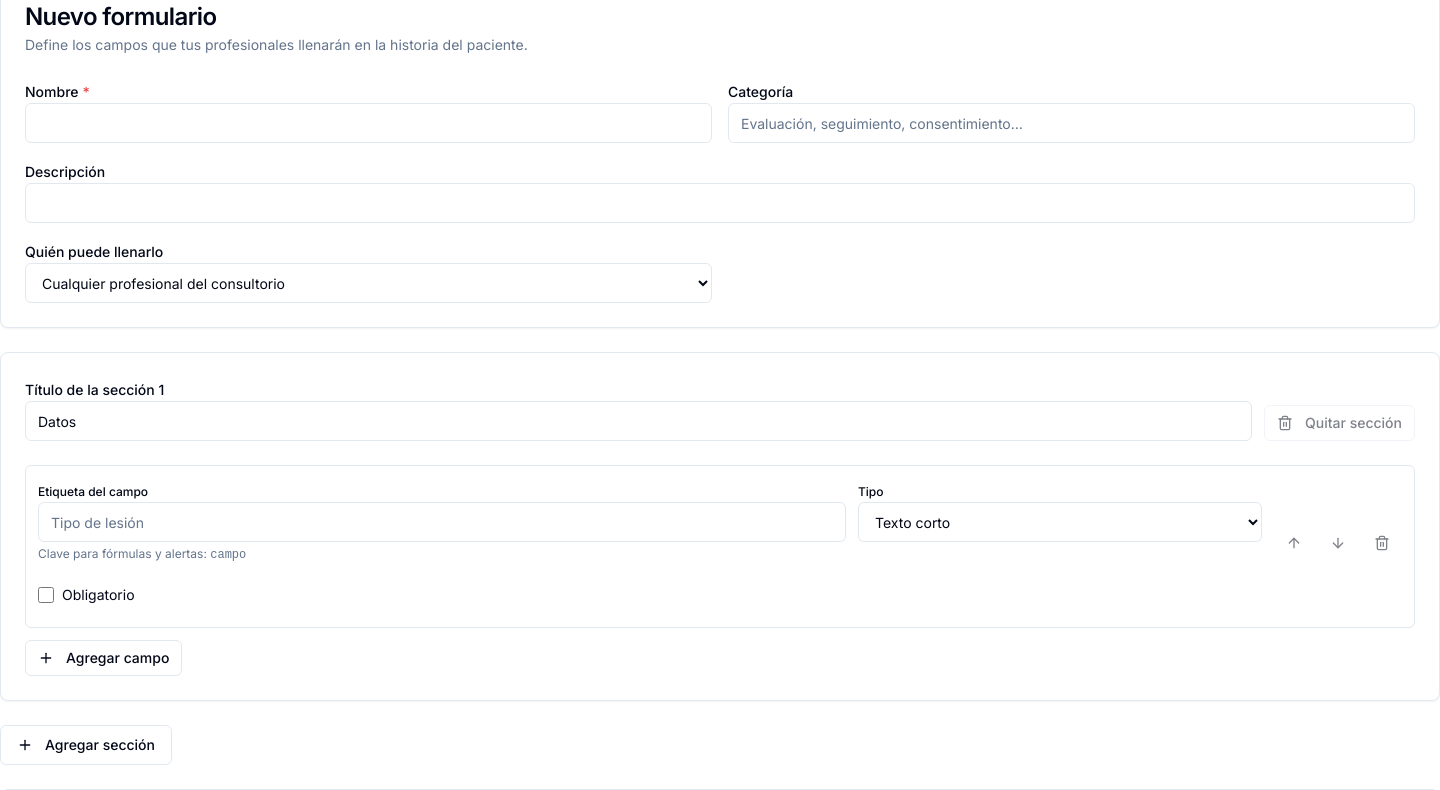
Test: FormBuilder › shows the issues the API reports next to the field they concern
Step 1. Type "Con errores" into the field labelled "Nombre*" → (368, 123), box [25, 103, 712, 143]
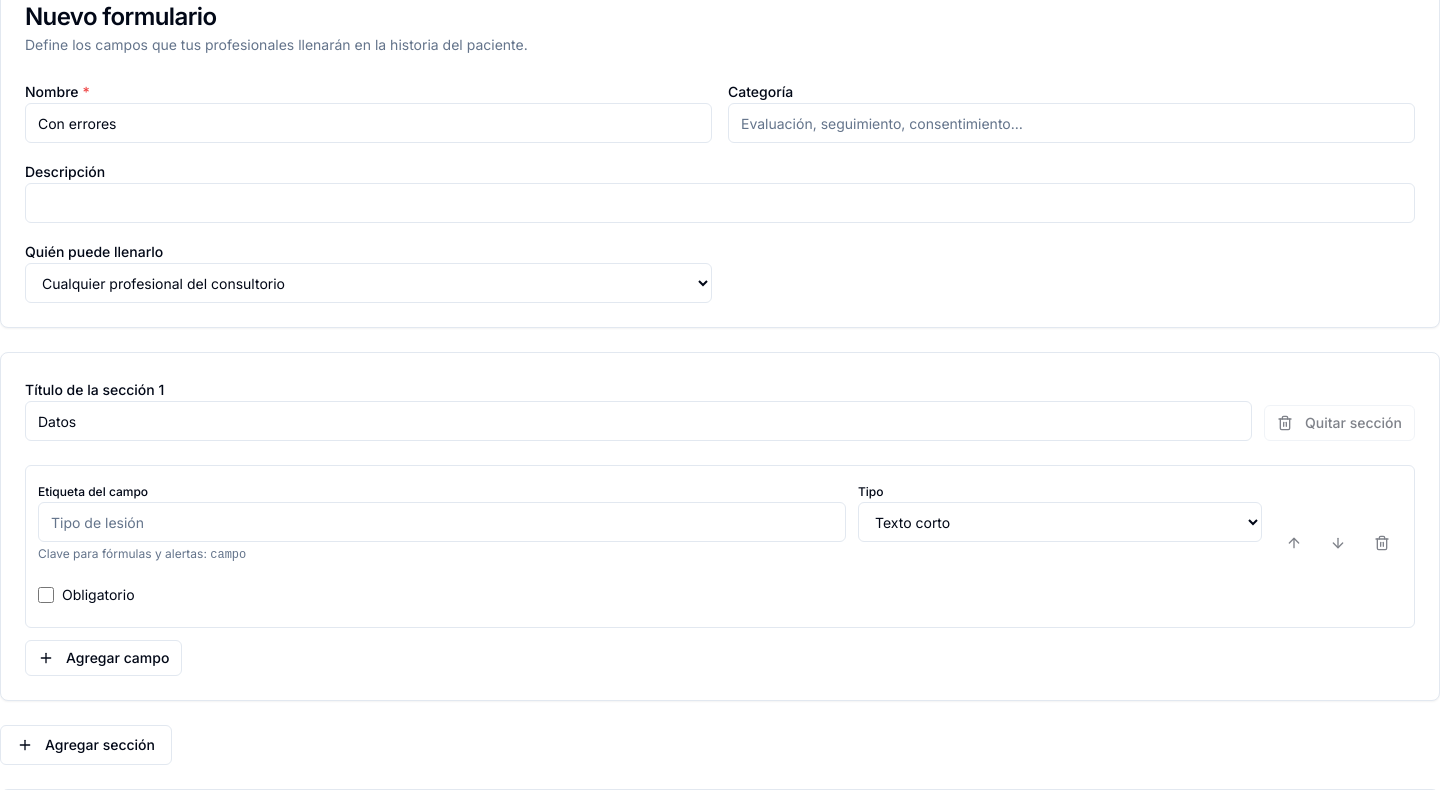
Step 2. Type "Tipo" into the field labelled "Etiqueta del campo" → (442, 522), box [38, 502, 846, 542]
(page scrolled)
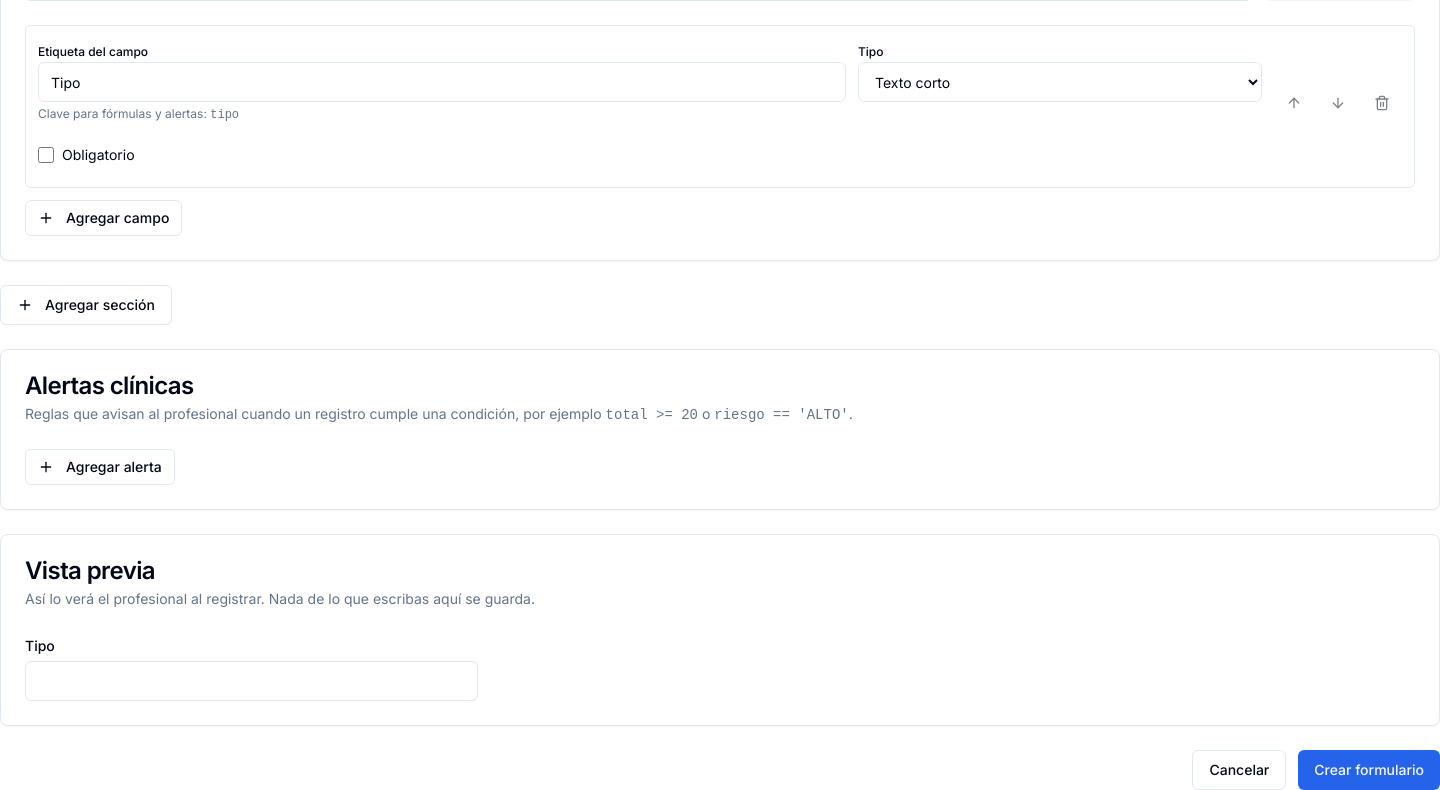
Step 3. Click the button "Crear formulario" → (1369, 770), box [1298, 750, 1439, 789]
(page scrolled)
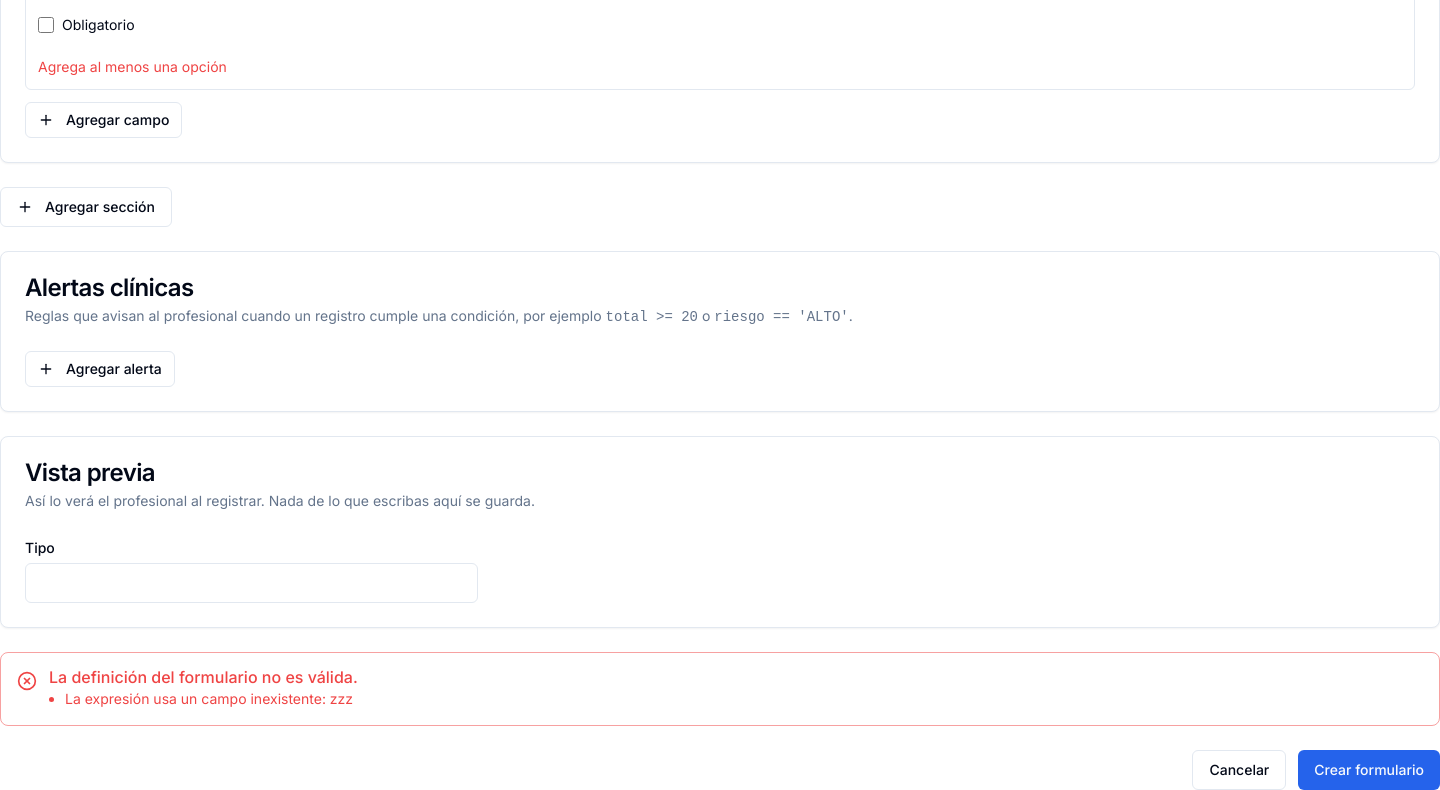
Expected: the text "Agrega al menos una opción" is shown, [38, 58, 227, 75]
Expected: the message shows "La definición del formulario no es válida.", [49, 667, 358, 687]
Expected: the message shows "La expresión usa un campo inexistente: zzz", [65, 690, 353, 707]
